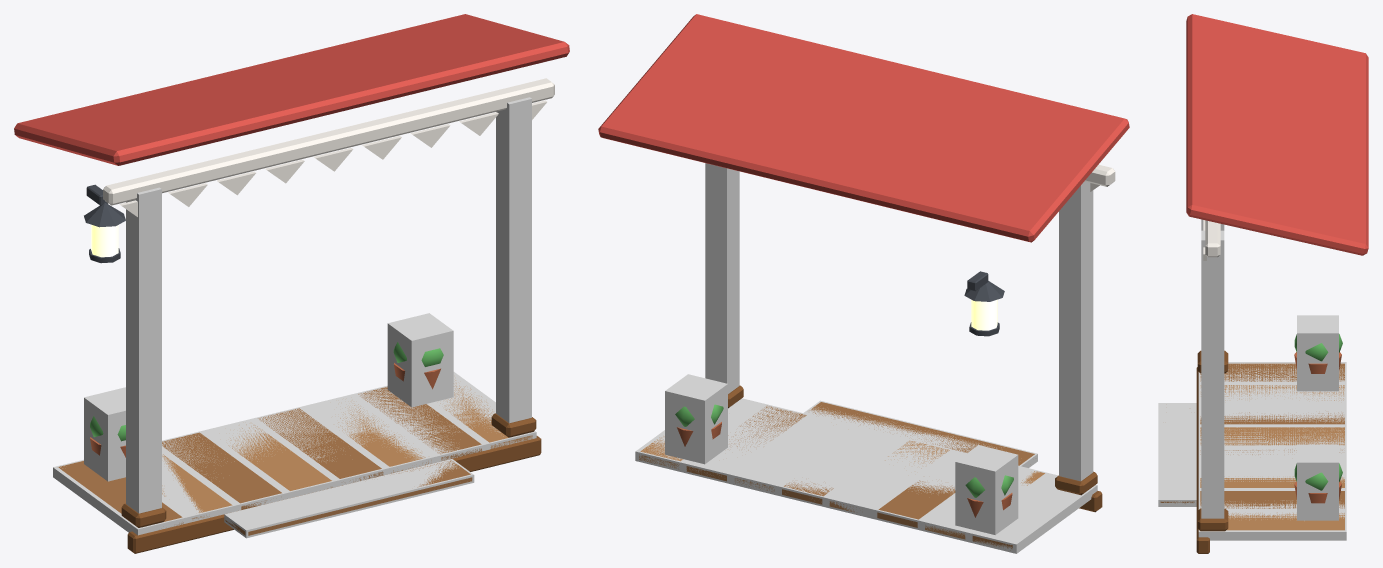
Rendered from casa-varanda.glb.
The picture shows the model from 3 angles, left to right: view 1: azimuth 30°, elevation 25°; view 2: azimuth 150°, elevation 25°; view 3: azimuth 270°, elevation 25°; orthographic projection. The views are drawn at different scales.
Visible parts, largest first — view 1: varanda-toldo, varanda, col-varanda-deque, col-varanda-coluna-2, col-varanda-coluna-1, col-varanda-degrau, col-varanda-vaso-2, col-varanda-vaso-1; view 2: varanda-toldo, col-varanda-deque, varanda, col-varanda-coluna-1, col-varanda-coluna-2, col-varanda-vaso-1, col-varanda-vaso-2, col-varanda-degrau; view 3: varanda-toldo, col-varanda-deque, varanda, col-varanda-coluna-2, col-varanda-degrau, col-varanda-vaso-1, col-varanda-vaso-2.
Part boxes in pixels (x1=…): varanda-toldo: x1=14, y1=14, x2=569, y2=216; varanda: x1=58, y1=184, x2=541, y2=553; col-varanda-deque: x1=53, y1=372, x2=536, y2=535; col-varanda-coluna-2: x1=496, y1=97, x2=531, y2=423; col-varanda-coluna-1: x1=126, y1=187, x2=161, y2=513; col-varanda-degrau: x1=224, y1=459, x2=474, y2=538; col-varanda-vaso-2: x1=387, y1=313, x2=453, y2=407; col-varanda-vaso-1: x1=84, y1=387, x2=125, y2=481; varanda-toldo: x1=598, y1=14, x2=1129, y2=242; col-varanda-deque: x1=635, y1=398, x2=1097, y2=553; varanda: x1=639, y1=271, x2=1102, y2=550; col-varanda-coluna-1: x1=1059, y1=181, x2=1093, y2=481; col-varanda-coluna-2: x1=705, y1=163, x2=739, y2=393; col-varanda-vaso-1: x1=955, y1=445, x2=1018, y2=534; col-varanda-vaso-2: x1=665, y1=374, x2=727, y2=464; col-varanda-degrau: x1=803, y1=400, x2=1037, y2=467; varanda-toldo: x1=1186, y1=14, x2=1368, y2=260; col-varanda-deque: x1=1198, y1=362, x2=1346, y2=540; varanda: x1=1160, y1=334, x2=1344, y2=553; col-varanda-coluna-2: x1=1201, y1=230, x2=1224, y2=518; col-varanda-degrau: x1=1158, y1=403, x2=1196, y2=506; col-varanda-vaso-1: x1=1297, y1=315, x2=1338, y2=391; col-varanda-vaso-2: x1=1297, y1=444, x2=1338, y2=520.
Size of the model in its own units: 4.8 by 4.13 by 2.2.
